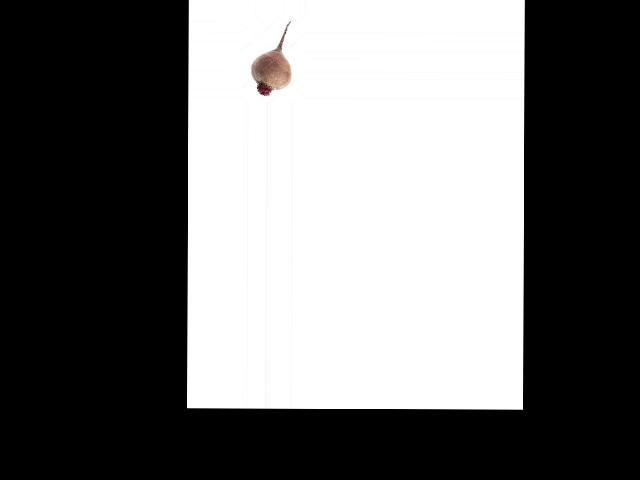beet: (249, 21, 291, 95)
